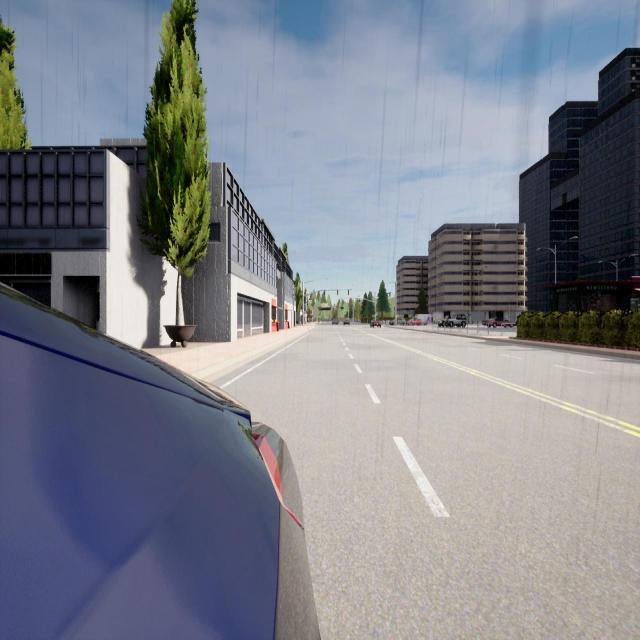Vehicle: (0, 282, 320, 640), (482, 316, 515, 328), (448, 314, 466, 328), (415, 314, 431, 325), (406, 317, 423, 326), (438, 316, 449, 328), (391, 318, 405, 326), (370, 318, 381, 328), (343, 318, 350, 326), (332, 318, 338, 325)
traffic_light: (374, 310, 376, 314), (324, 290, 325, 295), (337, 290, 338, 295), (394, 306, 395, 310), (348, 290, 349, 294), (359, 298, 360, 301), (390, 293, 390, 297), (342, 298, 342, 301), (350, 299, 350, 302)
